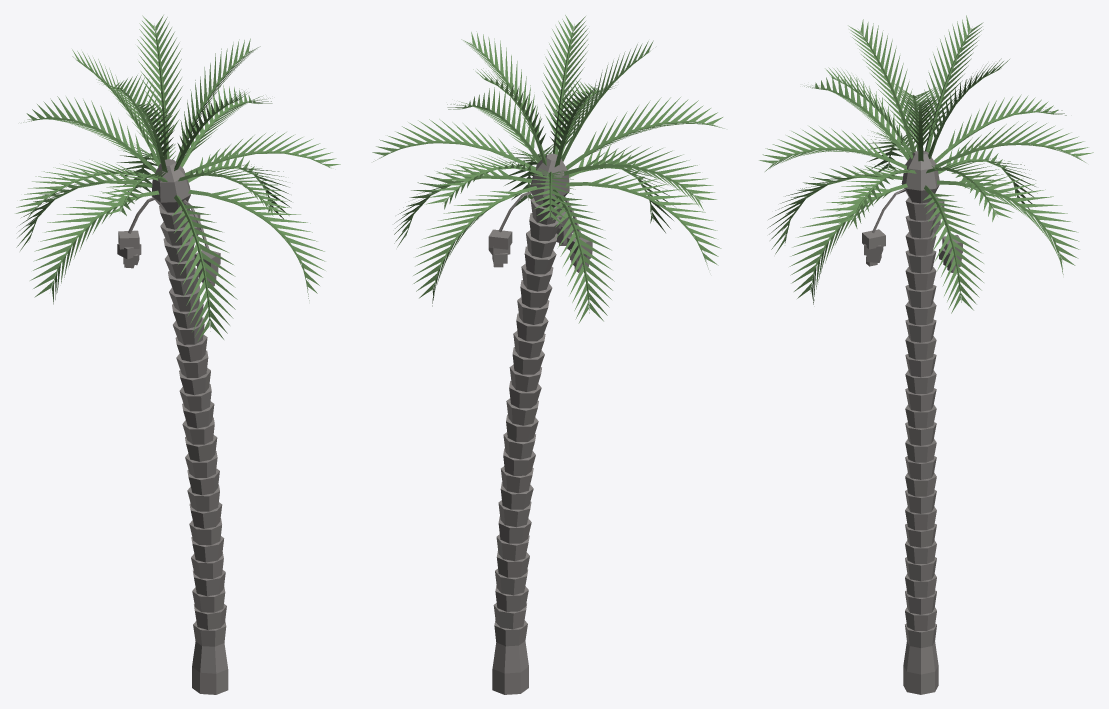
File: date_palm.glb
The picture shows the model from 3 angles, left to right: view 1: azimuth 30°, elevation 25°; view 2: azimuth 150°, elevation 25°; view 3: azimuth 270°, elevation 25°; orthographic projection. The views are drawn at different scales.
Visible parts, largest first — view 1: Palm_Fronds, Palm_Trunk, Palm_Dates; view 2: Palm_Fronds, Palm_Trunk, Palm_Dates; view 3: Palm_Fronds, Palm_Trunk, Palm_Dates.
Boxes of the visible parts, box(x1,y1,x2,y2) form: Palm_Fronds: box(15, 15, 340, 341); Palm_Trunk: box(152, 159, 228, 694); Palm_Dates: box(117, 197, 220, 287); Palm_Fronds: box(372, 15, 724, 323); Palm_Trunk: box(492, 153, 569, 694); Palm_Dates: box(488, 191, 592, 272); Palm_Fronds: box(759, 15, 1093, 313); Palm_Trunk: box(901, 150, 939, 694); Palm_Dates: box(862, 188, 962, 272).
Size of the model in its own units: 7.3 by 15.15 by 7.48.
